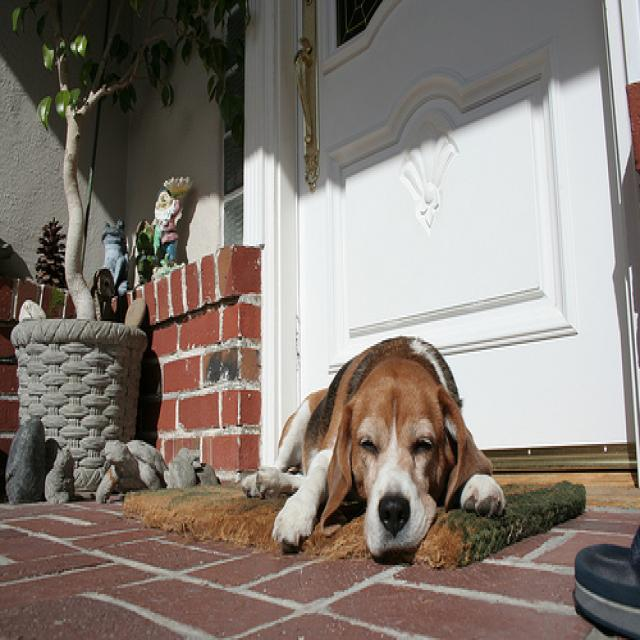dog-beagle: (236, 331, 512, 563)
